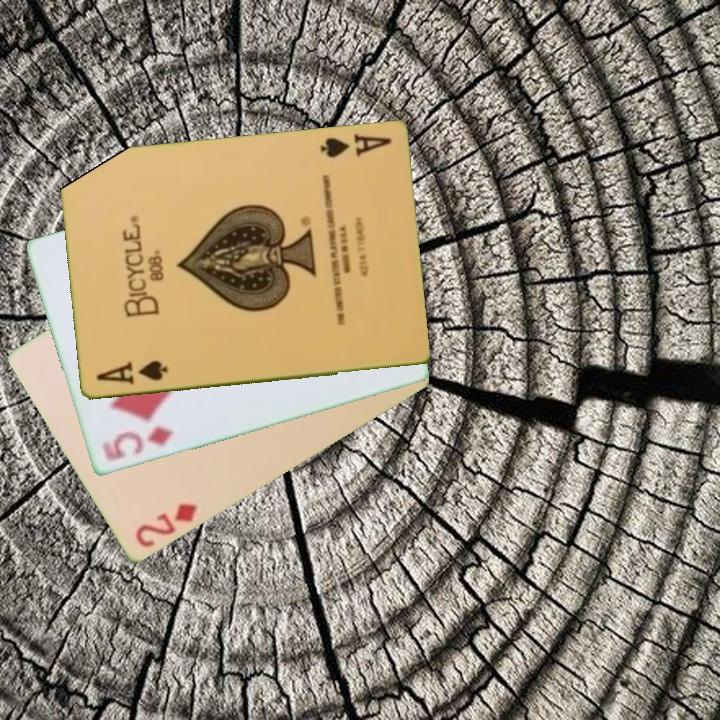2d: (131, 500, 200, 551)
5d: (98, 423, 177, 464)
As: (92, 357, 170, 388), (316, 131, 394, 162)
